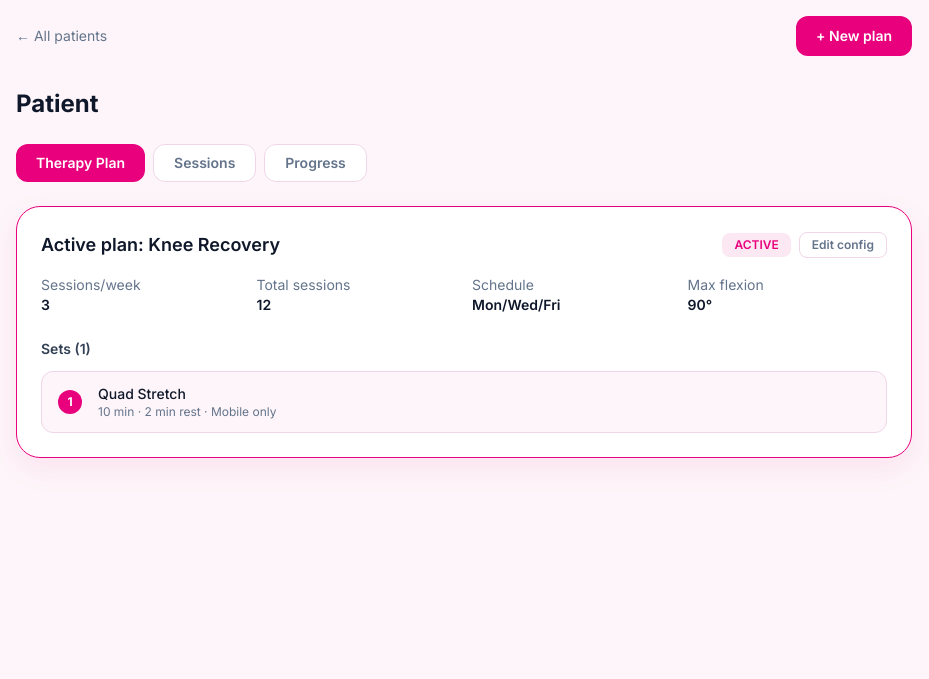
Scenario: PatientDetailPage › clicking a session shows session detail panel with exercise name
The width and height of the screenshot is (929, 679).
Step 1. Click the button "Sessions" → (205, 163), box [153,144,256,182]
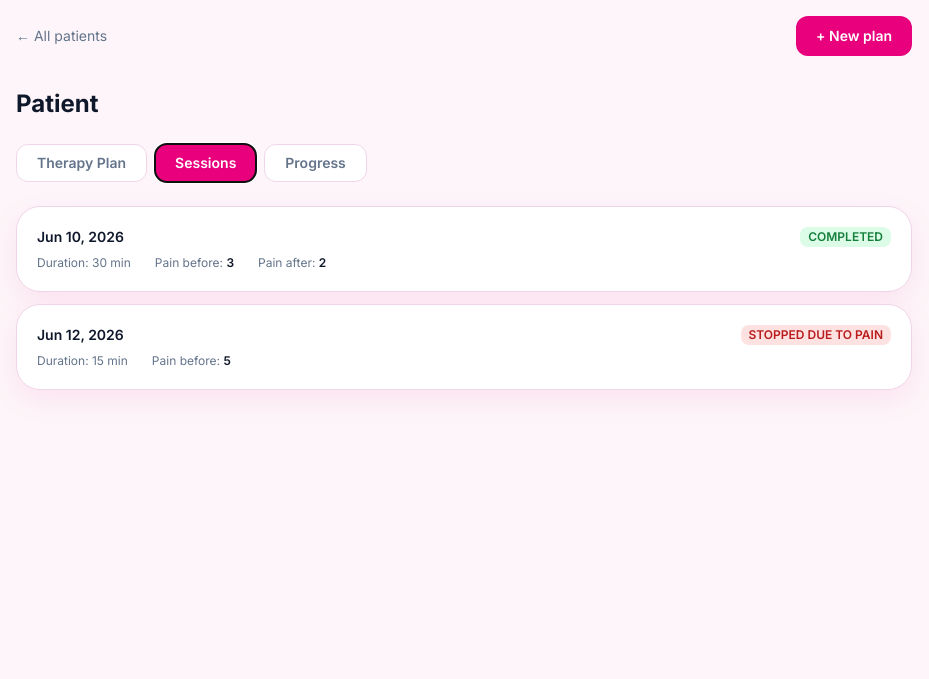
Click the first COMPLETED row
Step 2. Click the button "COMPLETED" → (80, 236), box [16,206,912,292]
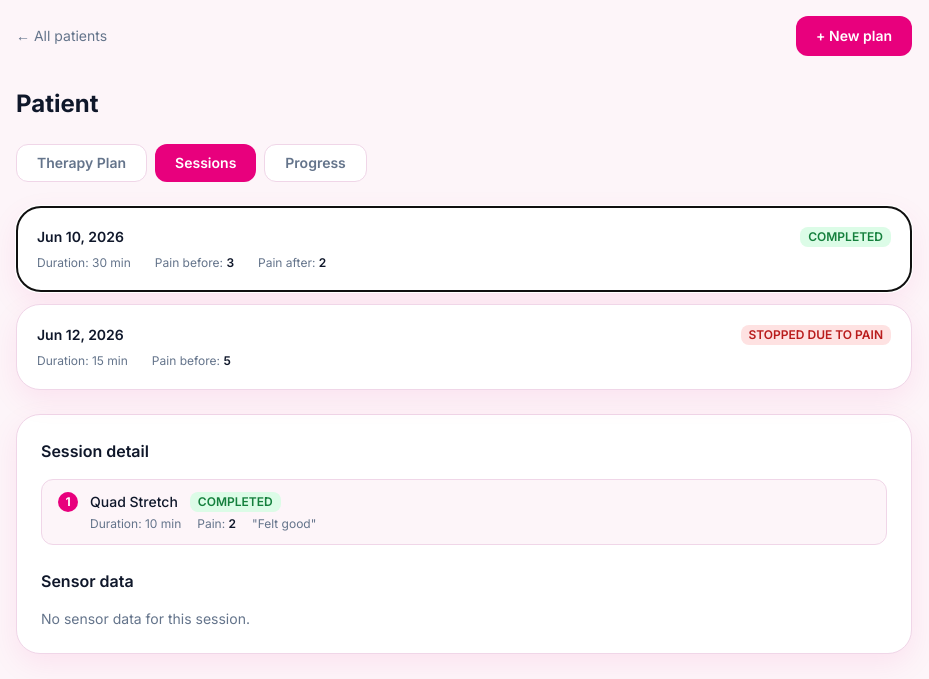
Expected: the heading "Session detail" is shown, [41,441,149,461]
Expected: the text "Quad Stretch" is shown, [90,492,178,512]
Expected: the text "\"Felt good\"" is shown, [252,516,316,532]
